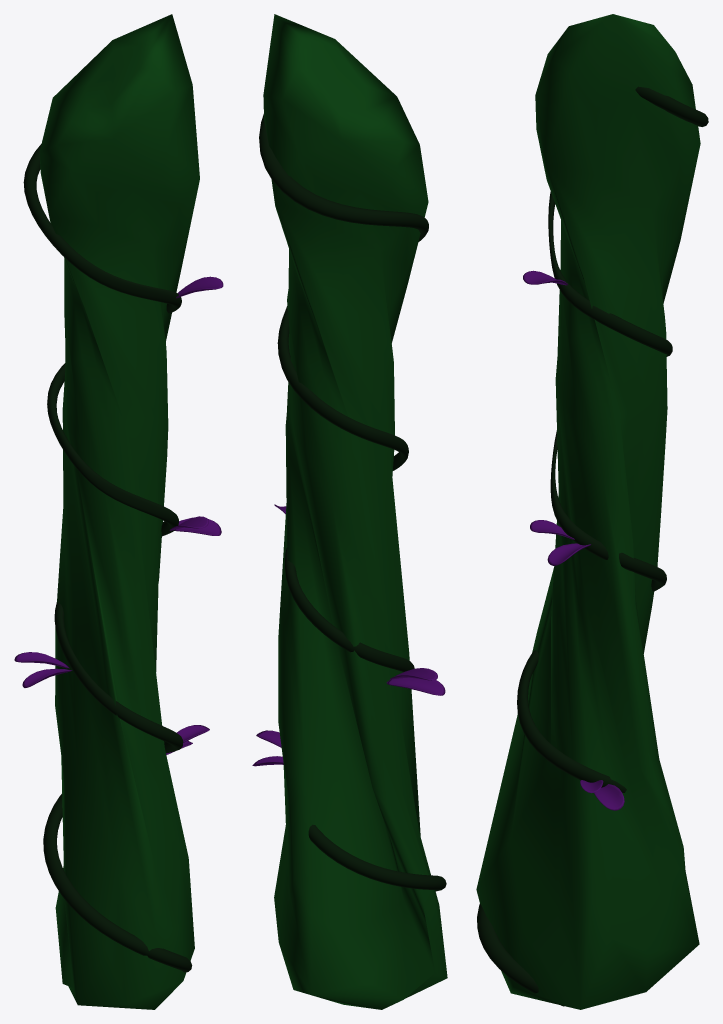
File: Wrapvine.fbx
3 views of the same model, side by side, from view 1: azimuth 30°, elevation 25°; view 2: azimuth 150°, elevation 25°; view 3: azimuth 270°, elevation 25° (orthographic). The views are drawn at different scales.
Parts seen in each view (by area): view 1: GeoSphere001, Helix001, Plane008; view 2: GeoSphere001, Helix001, Plane005; view 3: GeoSphere001, Helix001, Plane003.
Part boxes in pixels (x1,y1,x2,y2): GeoSphere001: (39,14,199,1009); Helix001: (23,144,192,972); Plane008: (176,276,223,298); GeoSphere001: (263,14,447,1009); Helix001: (259,114,446,891); Plane005: (386,677,445,695); GeoSphere001: (476,14,700,1009); Helix001: (477,86,708,1006); Plane003: (594,784,624,810).
Size of the model in its own units: 15.67 by 15.98 by 77.41.
